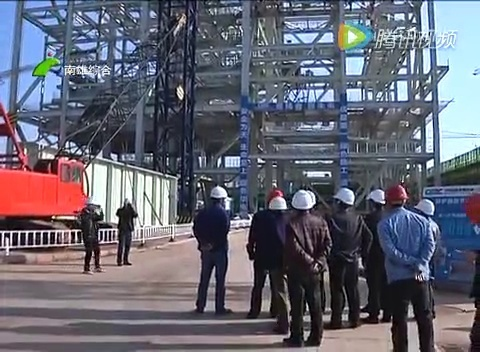red: (386, 182, 407, 212)
white: (291, 189, 312, 217), (333, 186, 355, 211), (415, 198, 435, 221), (367, 187, 385, 212), (268, 195, 287, 217), (209, 185, 227, 206)
